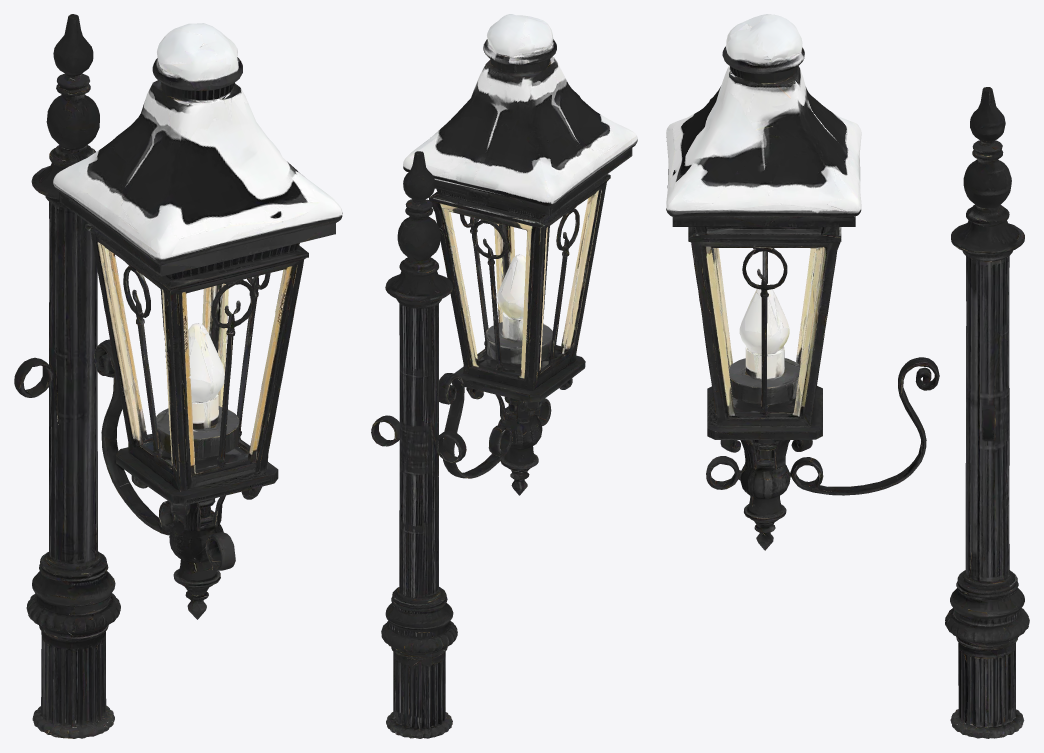
The model's file is lamp_post.glb.
The picture shows the model from 3 angles, left to right: view 1: azimuth 30°, elevation 25°; view 2: azimuth 150°, elevation 25°; view 3: azimuth 270°, elevation 25°; orthographic projection. The views are drawn at different scales.
Bounding box in the file's own units: 0.4752 × 1.9 × 0.8869.
1 material, 1 textured.
